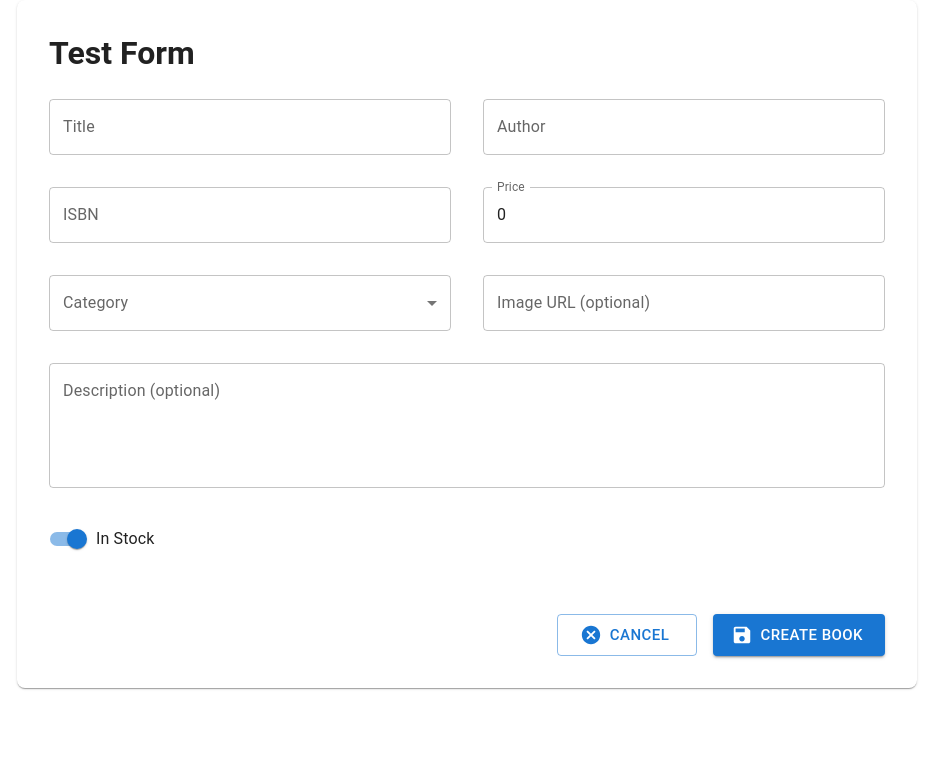
BookForm › validates required fields
The width and height of the screenshot is (935, 768).
Click the button "Create Book" at coordinates (799, 635), box x1=713 y1=614 x2=885 y2=656
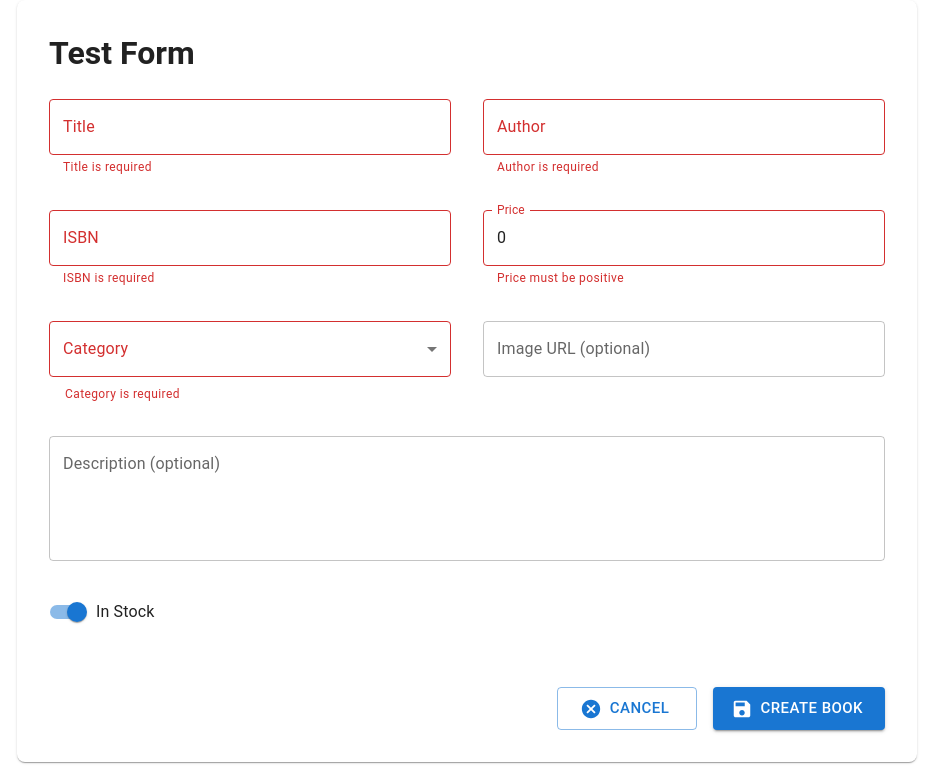
Result: the text "Title is required" is shown at x1=63 y1=160 x2=152 y2=174
Result: the text "Author is required" is shown at x1=497 y1=160 x2=599 y2=174
Result: the text "ISBN is required" is shown at x1=63 y1=271 x2=155 y2=285
